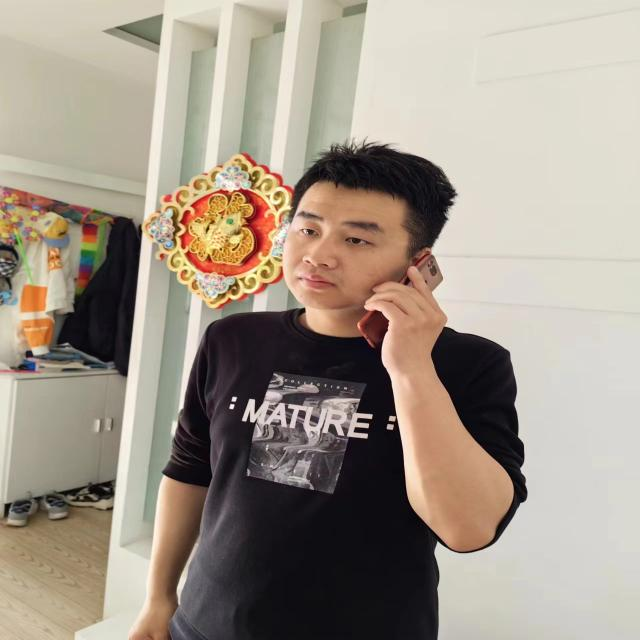phone: (356, 253, 444, 346)
